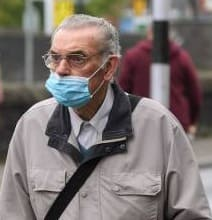with_incorrect_mask: (44, 33, 108, 107)
